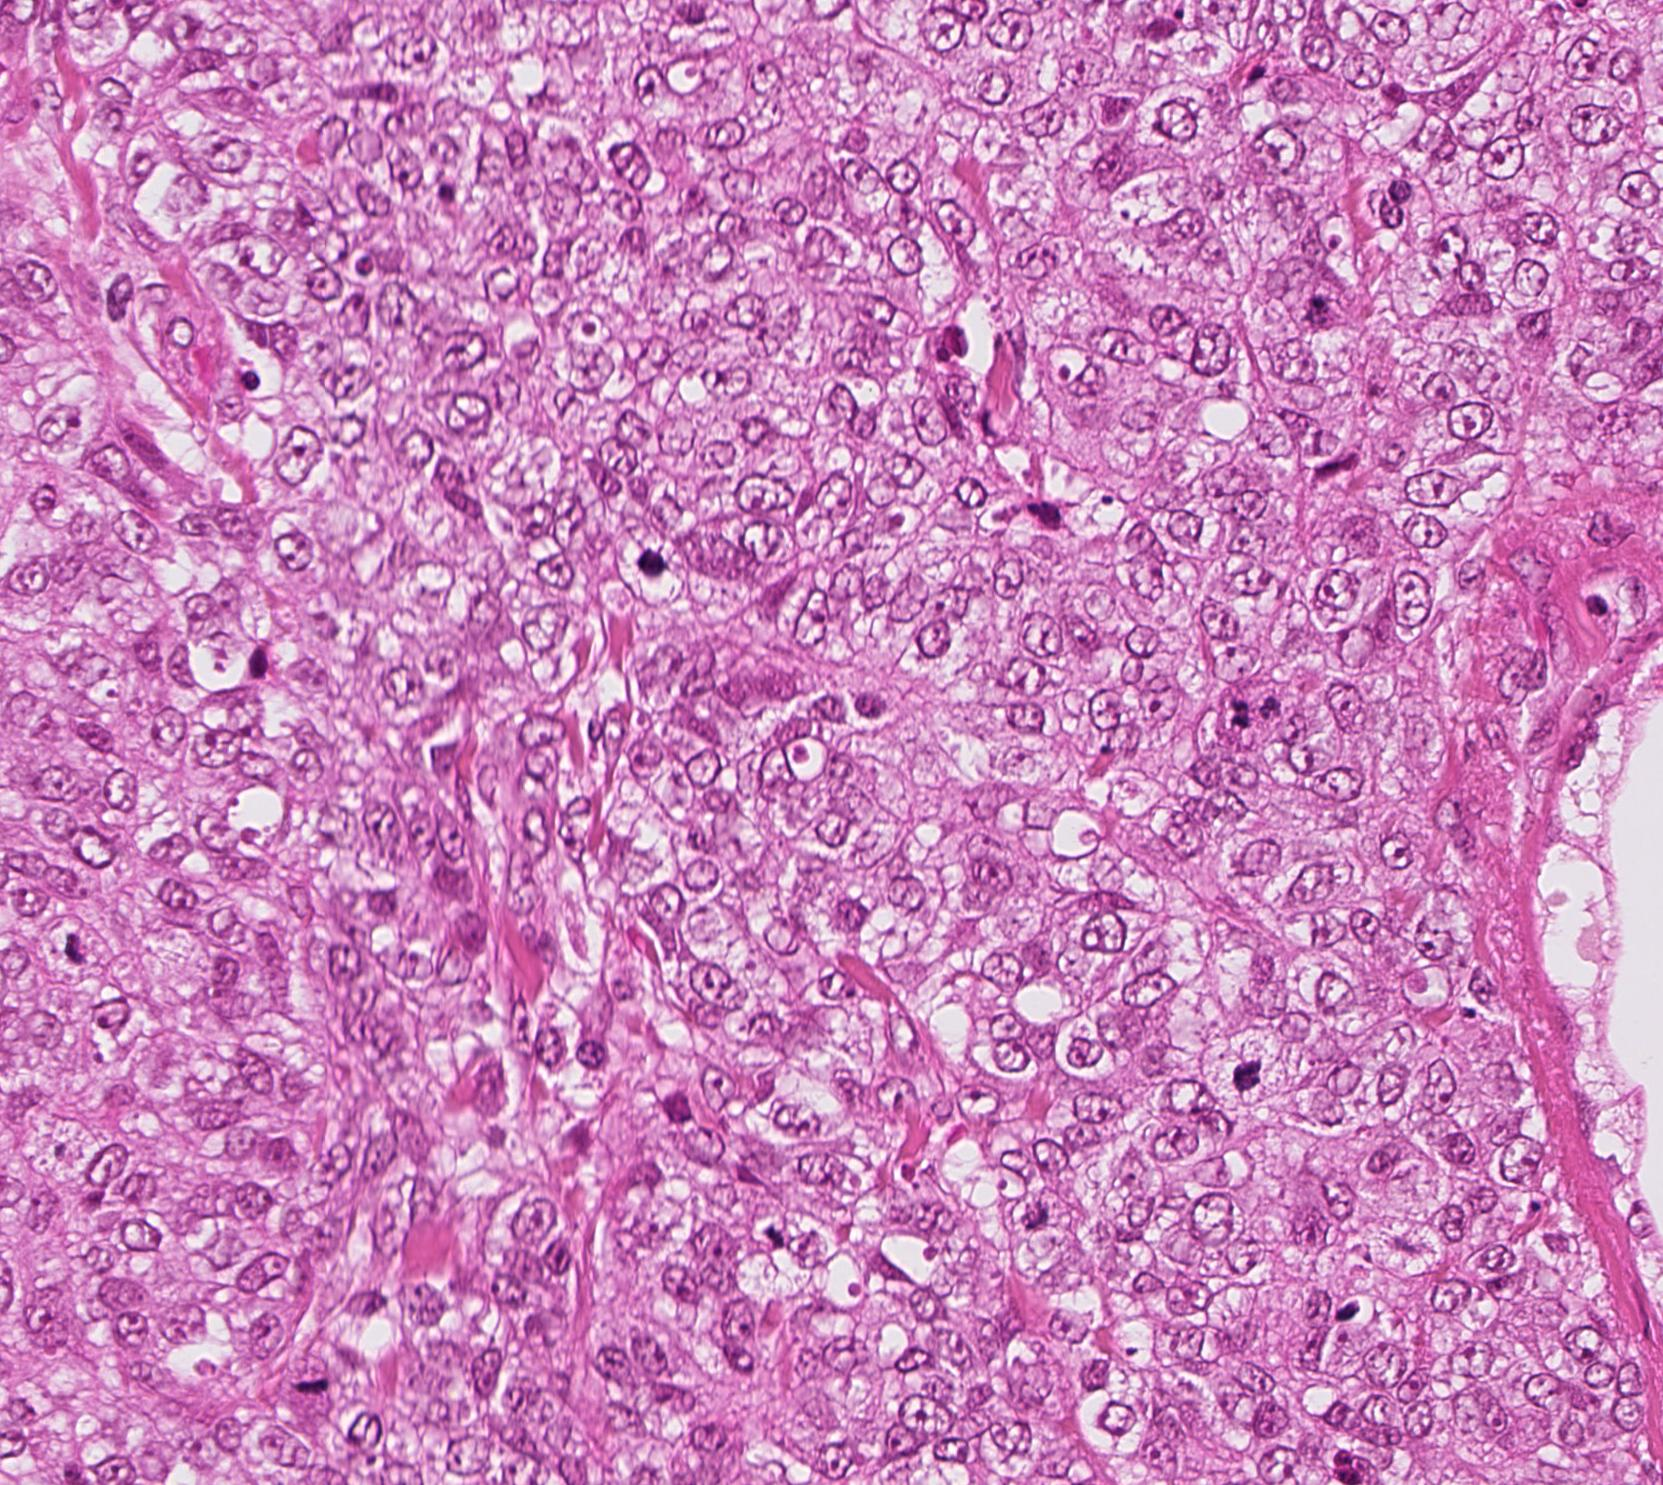mitosis: (612, 527, 672, 588), (1209, 1041, 1269, 1101)
